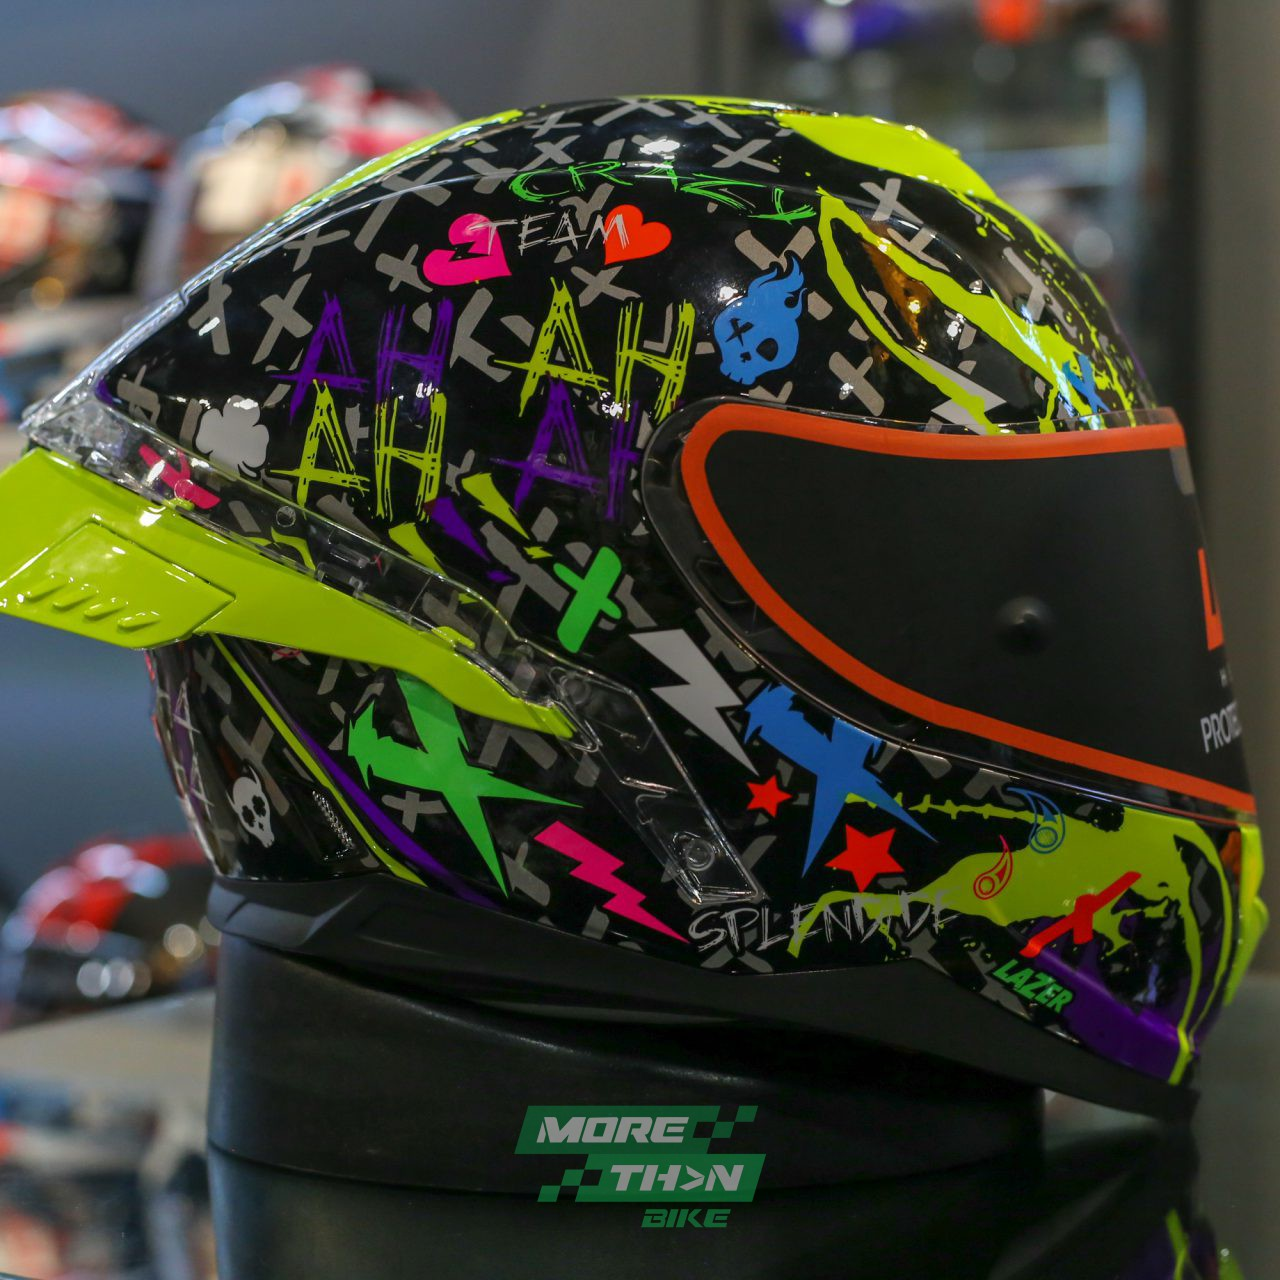helmet: (4, 91, 1265, 1126)
